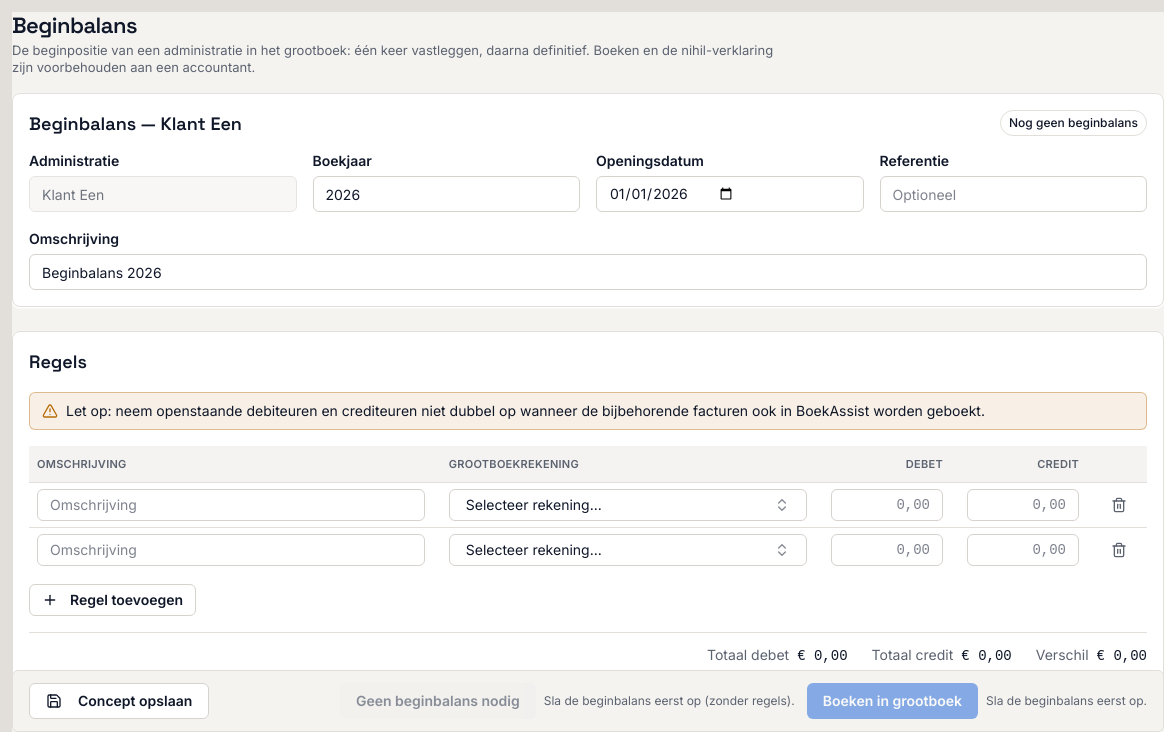
Scenario: Beginbalans — concept › 14. negatief bedrag → fout bij de regel
Type "-5" into the 1st field with placeholder "0,00".
click(887, 505); type("-5")  # box [831,489,943,521]
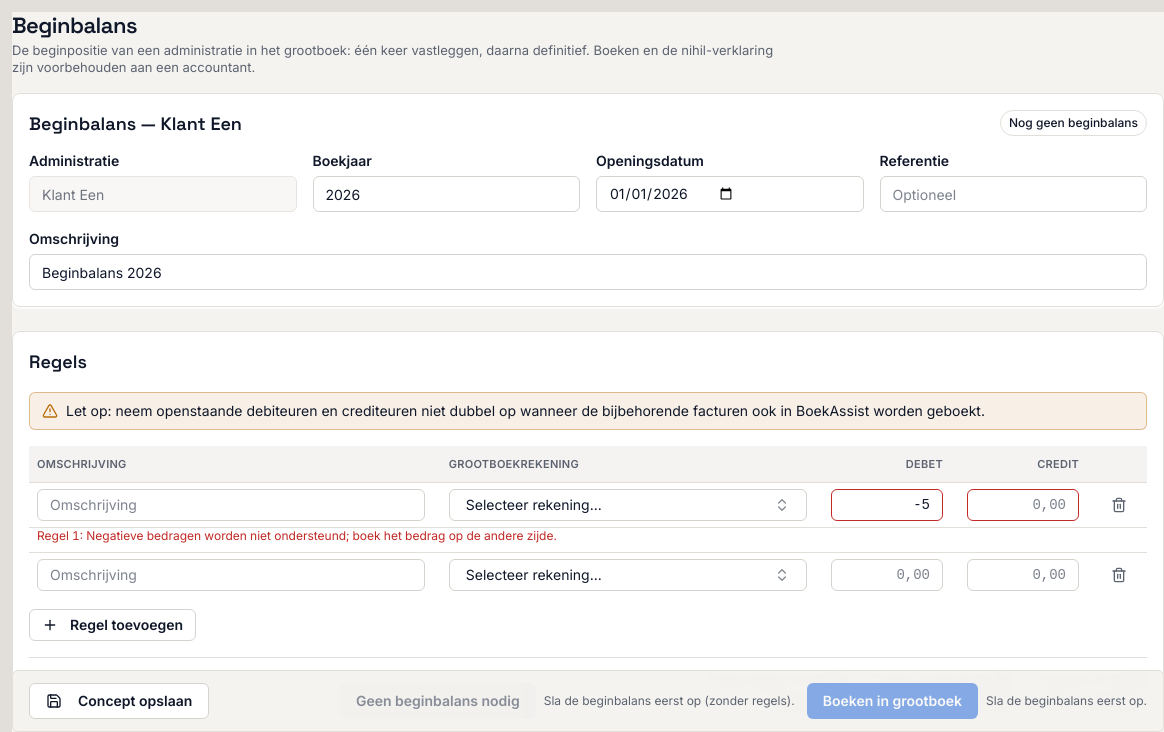
Check: the list item with test id "beginbalans-line-issue-negative" shows "Negatieve bedragen worden niet ondersteund", box [86,528,557,543]
